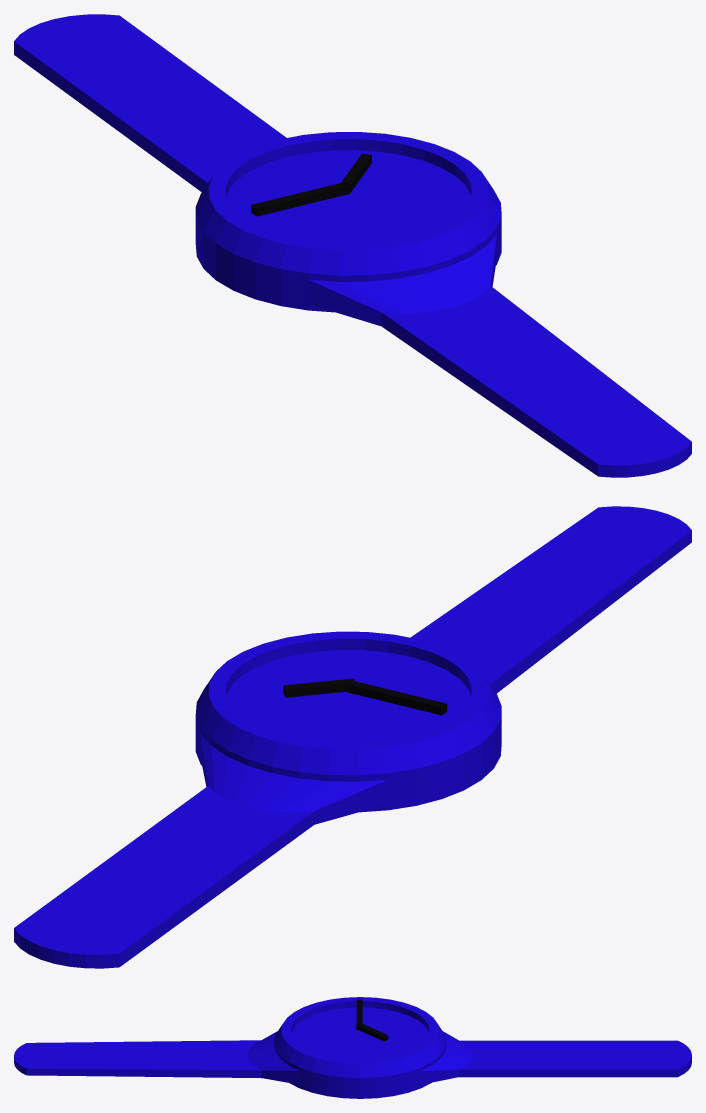
File: clock.glb
3 renders of one model, top to bottom at view 1: azimuth 30°, elevation 25°; view 2: azimuth 150°, elevation 25°; view 3: azimuth 270°, elevation 25°, orthographic. The views are drawn at different scales.
Visible parts, largest first — view 1: Circle, Circle.001, Cube; view 2: Circle, Circle.001, Cube; view 3: Circle, Circle.001, Cube.
Part boxes in pixels (box(x1,y1,x2,y2)): Circle: box(195, 132, 691, 477); Circle.001: box(14, 14, 691, 476); Cube: box(251, 153, 371, 216); Circle: box(14, 631, 501, 968); Circle.001: box(14, 506, 691, 966); Cube: box(283, 678, 447, 715); Circle: box(14, 997, 691, 1098); Circle.001: box(14, 1040, 691, 1077); Cube: box(356, 999, 388, 1041).
Bounding box in the file's own units: 2 × 0.4899 × 7.85.
